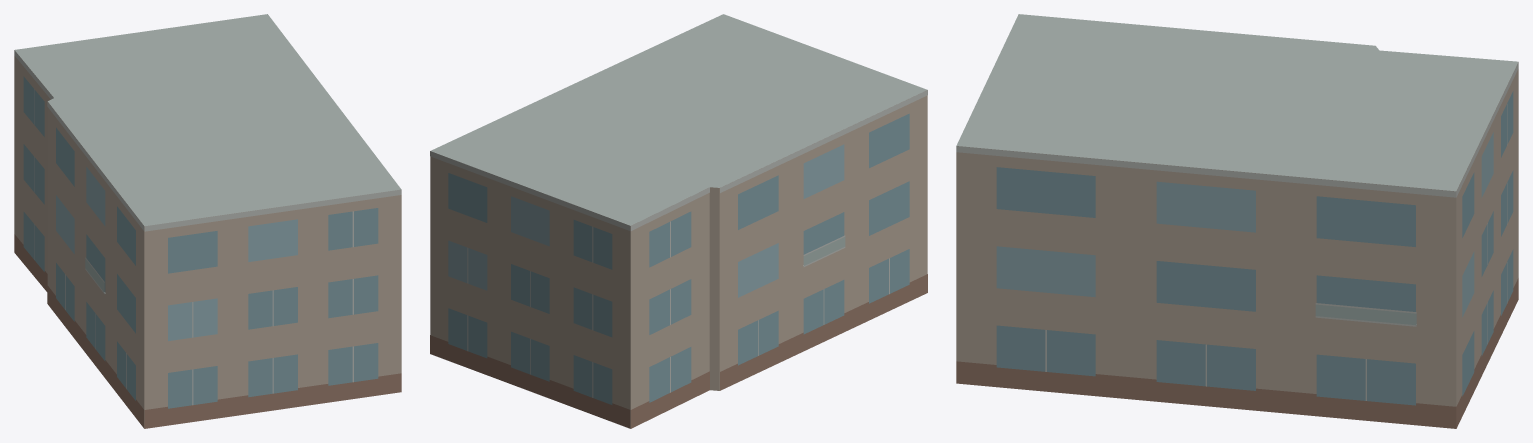
The model's file is survey-upis-32541040.glb.
3 views of the same model, side by side, from view 1: azimuth 30°, elevation 25°; view 2: azimuth 150°, elevation 25°; view 3: azimuth 270°, elevation 25° (orthographic). The views are drawn at different scales.
Parts seen in each view (by area): view 1: survey-upis-32541040.tmp; view 2: survey-upis-32541040.tmp; view 3: survey-upis-32541040.tmp.
Boxes of the visible parts, <box> form: survey-upis-32541040.tmp: <box>14,14,401,428</box>; survey-upis-32541040.tmp: <box>430,14,927,428</box>; survey-upis-32541040.tmp: <box>956,14,1518,428</box>.
Size of the model in its own units: 14.66 by 9.15 by 19.64.
